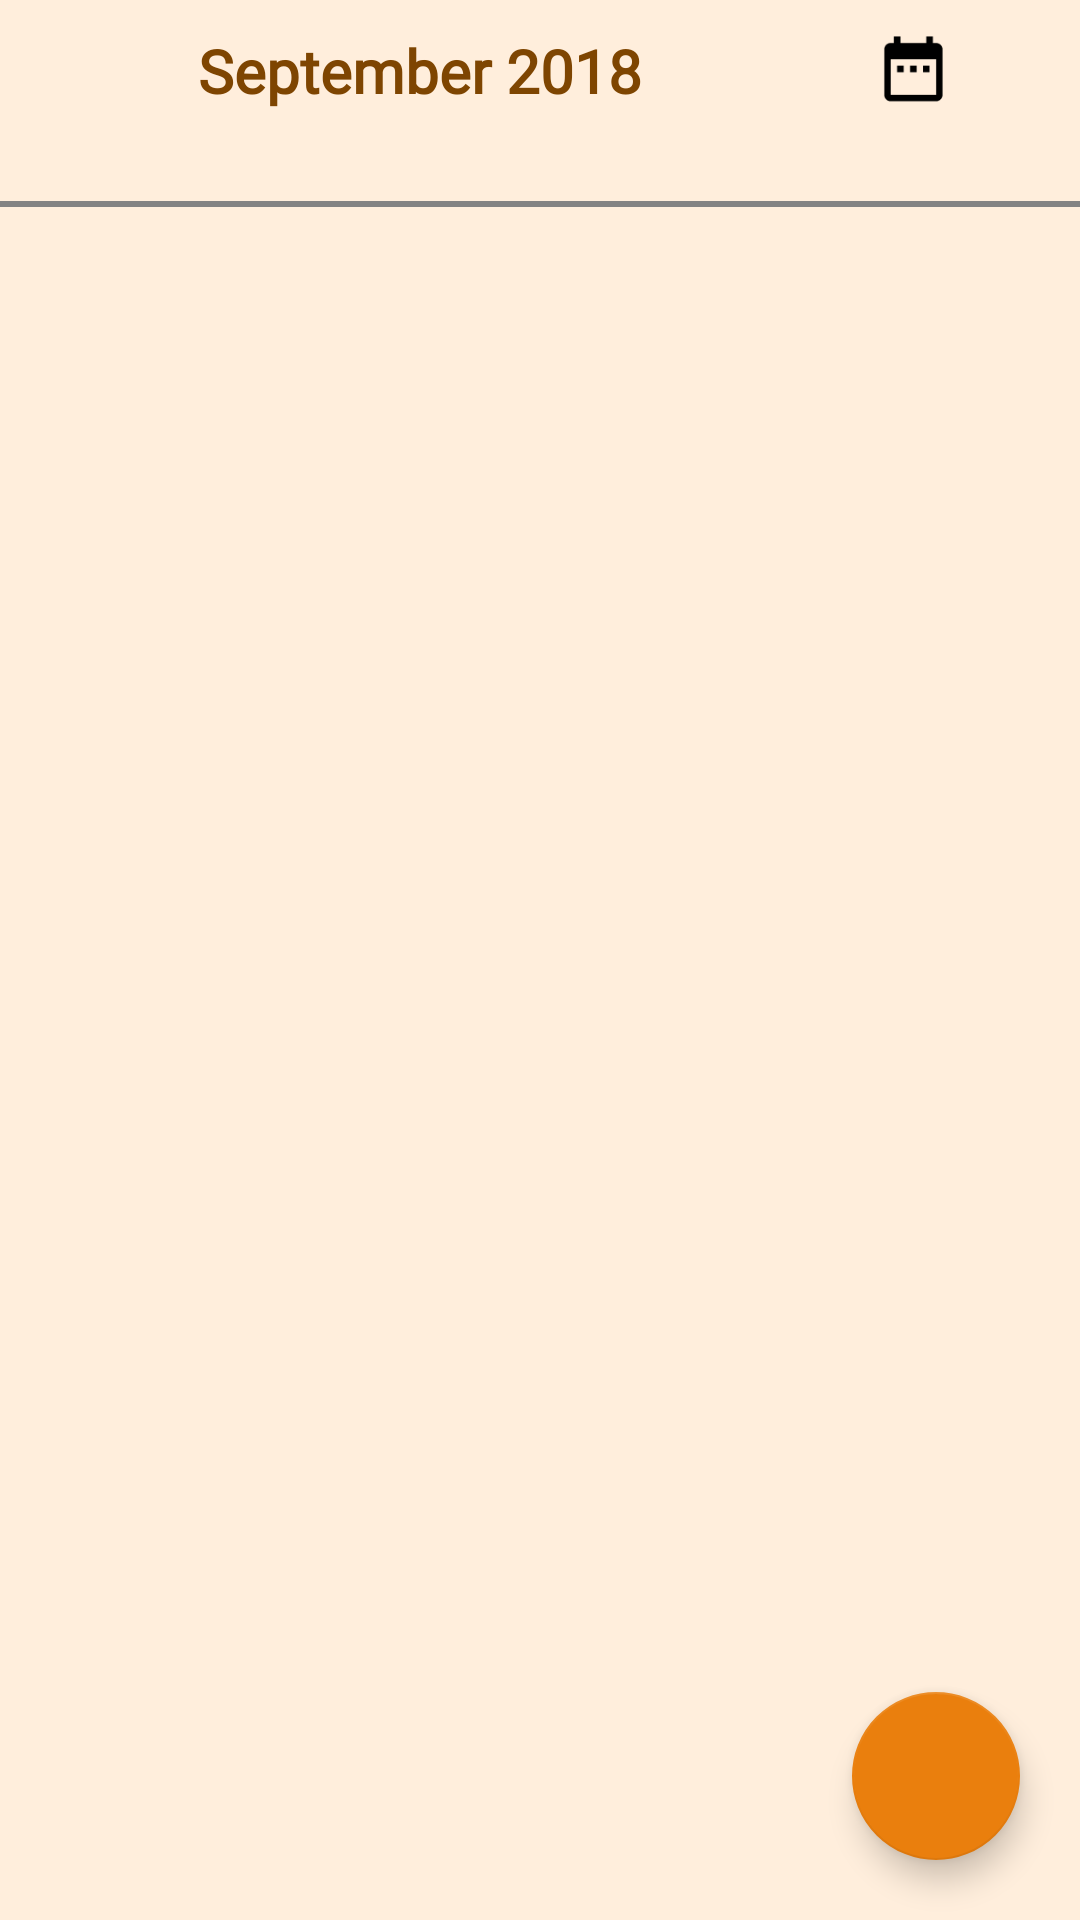

Named icons in this screenshot (1080 × 1920) and their bounding boxes, bbox=(x1, y1, x2, y2):
date: bbox=(884, 36, 943, 102)
